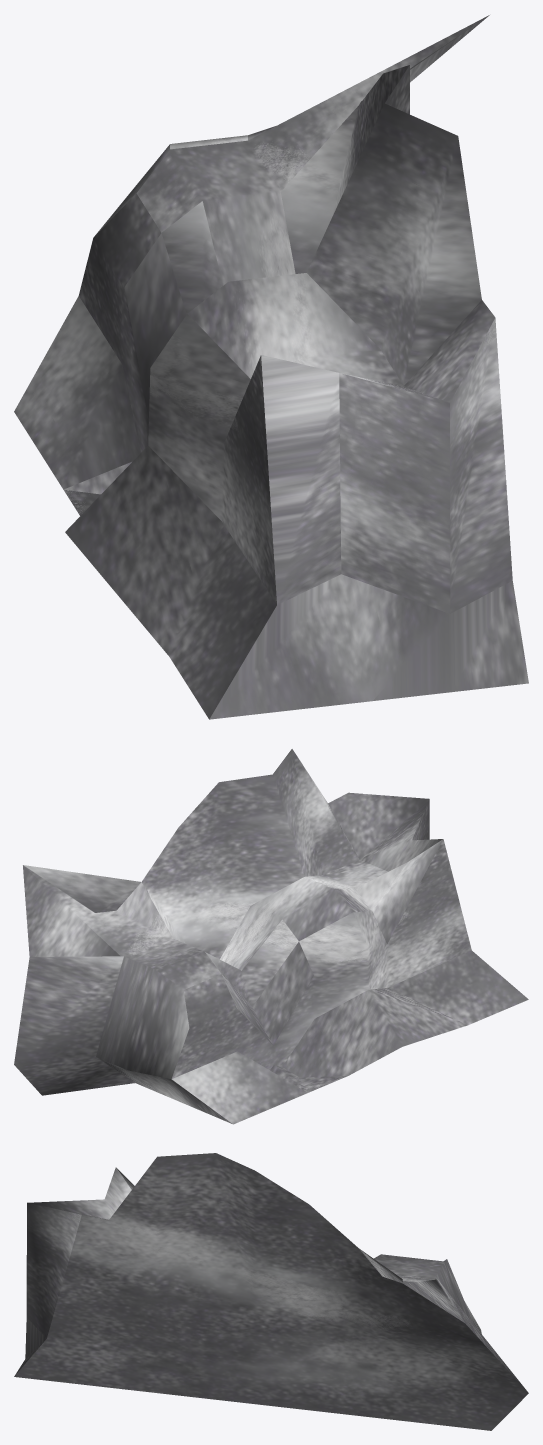
The model's file is Mountain15 - Level 1.FBX.
The picture shows the model from 3 angles, top to bottom: view 1: azimuth 30°, elevation 25°; view 2: azimuth 150°, elevation 25°; view 3: azimuth 270°, elevation 25°; orthographic projection. The views are drawn at different scales.
Parts seen in each view (by area): view 1: Mountain 15; view 2: Mountain 15; view 3: Mountain 15.
Part boxes in pixels (x1,y1,x2,y2): Mountain 15: (14, 15, 528, 719); Mountain 15: (14, 749, 528, 1124); Mountain 15: (14, 1153, 528, 1430).
Bounding box in the file's own units: 213 × 149 × 293.
1 material, 1 textured.
